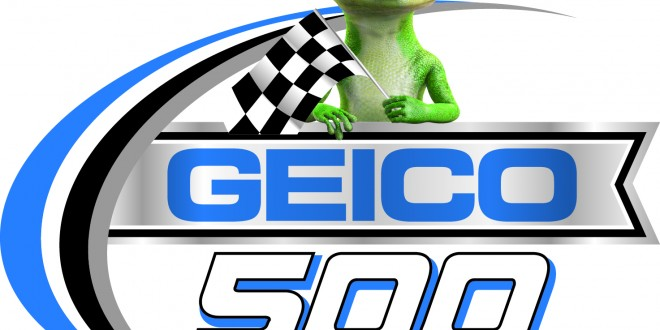geico: (163, 145, 591, 224)
